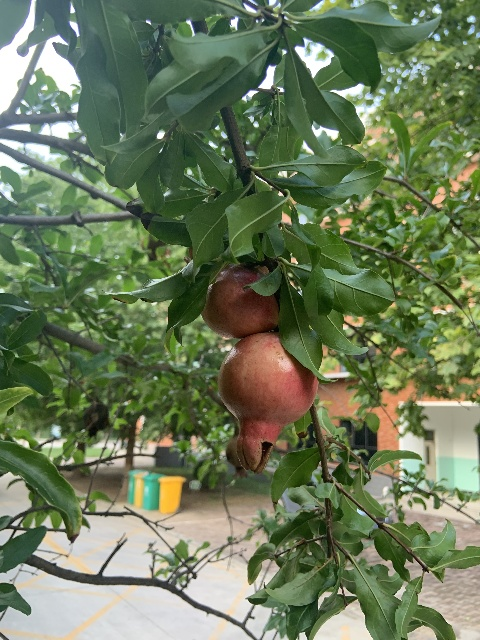ripe: (217, 332, 318, 473), (201, 264, 280, 339)
